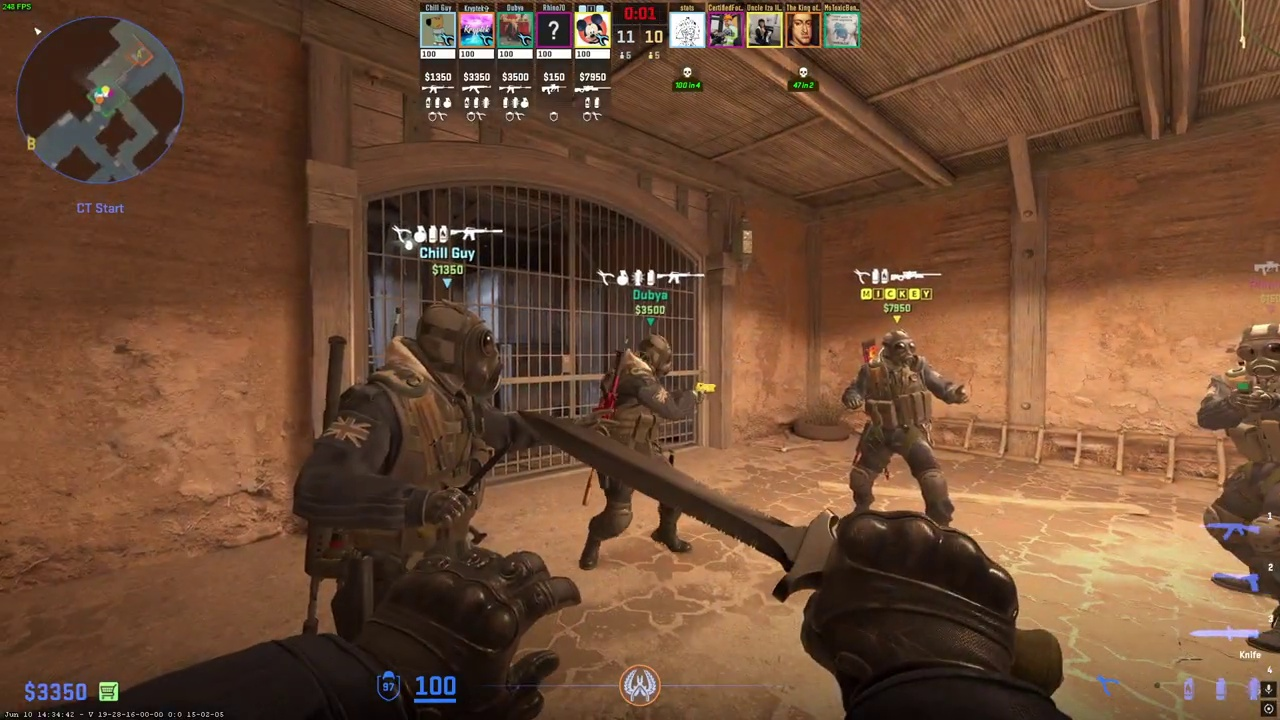CT: (296, 300, 527, 641), (574, 334, 697, 570), (1194, 322, 1280, 654), (845, 329, 956, 528)
